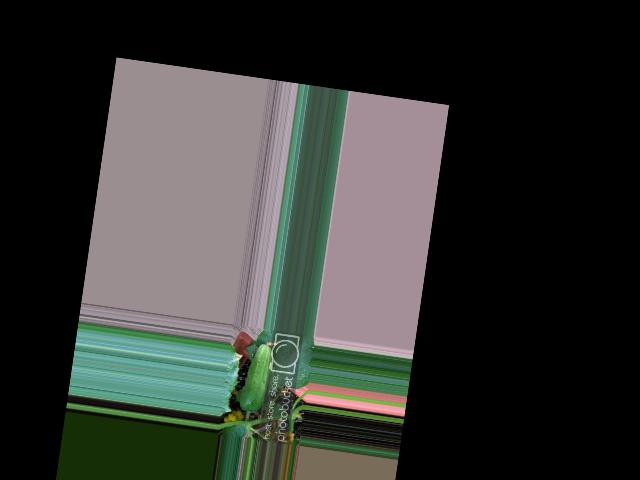cucumber: (238, 341, 276, 413)
